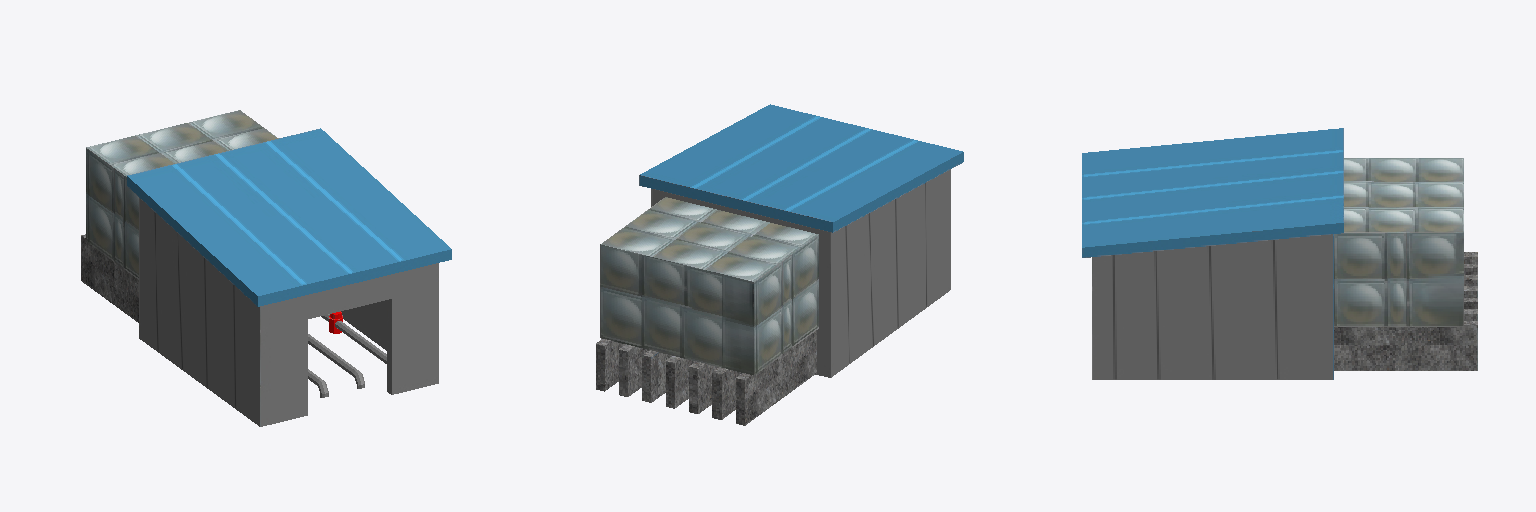
3 views of the same model, side by side, from view 1: azimuth 30°, elevation 25°; view 2: azimuth 150°, elevation 25°; view 3: azimuth 270°, elevation 25° (orthographic).
Parts seen in each view (by area): view 1: SBSX_DF, SBSX_DF_dinggai; view 2: SBSX_DF, SBSX_DF_dinggai; view 3: SBSX_DF, SBSX_DF_dinggai.
Part boxes in pixels (x1,y1,x2,y2): SBSX_DF: (81, 110, 438, 426); SBSX_DF_dinggai: (127, 128, 451, 306); SBSX_DF: (596, 169, 950, 425); SBSX_DF_dinggai: (639, 104, 963, 232); SBSX_DF: (1092, 158, 1477, 379); SBSX_DF_dinggai: (1082, 128, 1343, 257).
Bounding box in the file's own units: 4832 × 3836 × 8533.
1 materials, 1 textured.